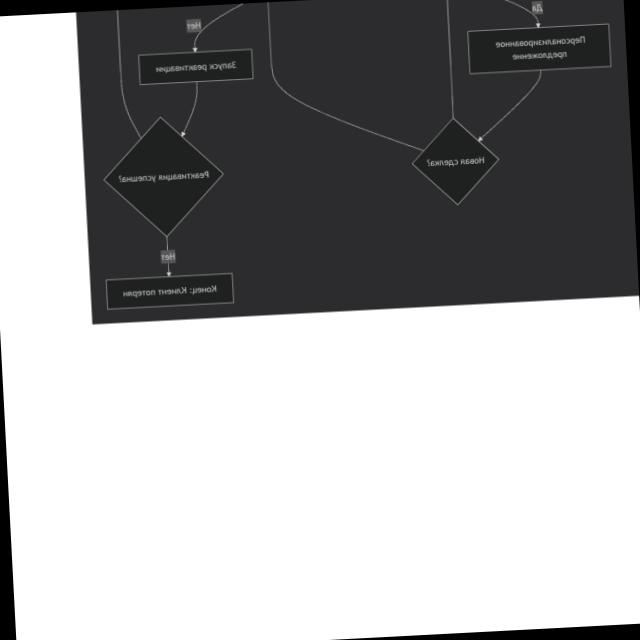arrow: (475, 72, 546, 144), (188, 3, 244, 52), (178, 82, 202, 138), (159, 234, 178, 278)
diamond: (103, 118, 221, 234), (412, 120, 497, 204)
text_region: (184, 17, 201, 34), (527, 0, 547, 14), (159, 251, 176, 264)
